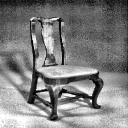chair_success: (20, 12, 107, 122)
